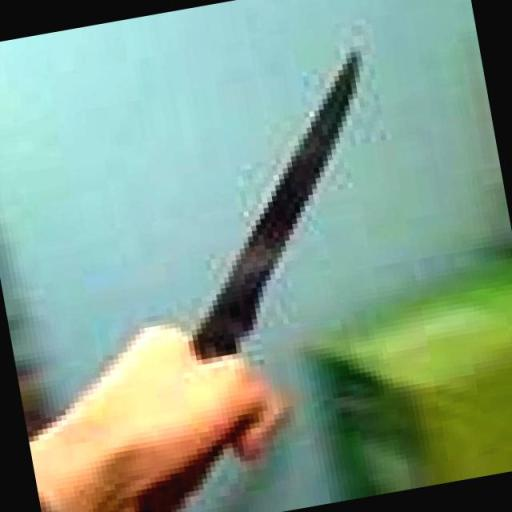knife: (127, 36, 438, 414)
